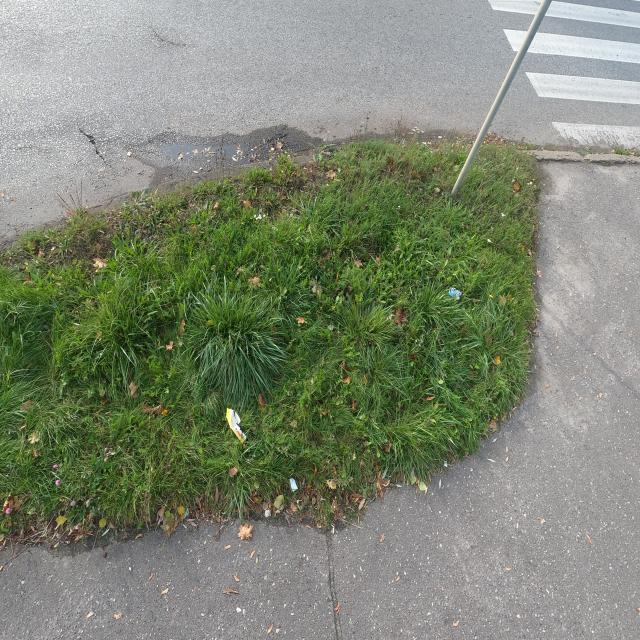rubbish: (225, 408, 248, 445), (448, 286, 464, 301), (288, 477, 299, 493)
